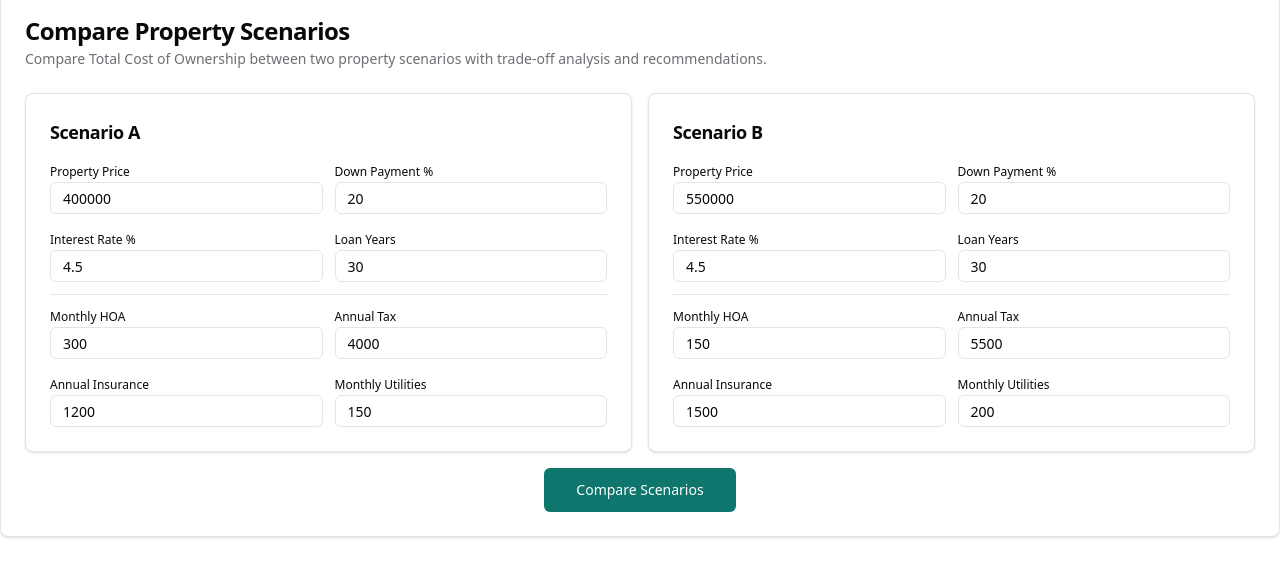
Test: TCOComparison › sends both scenarios to the API and renders the answer
Click the button "Compare Scenarios": click(640, 490) [544,468,736,512]
(page scrolled)
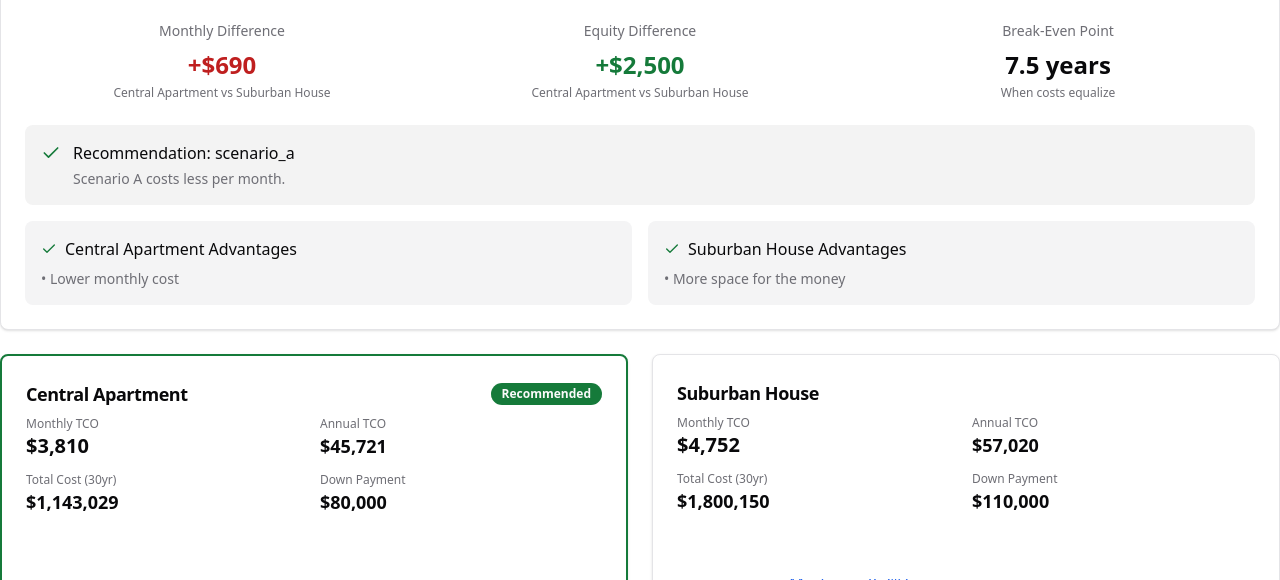
Expected: the text "+$690" is shown, [188,48,256,81]
Expected: the text "+$2,500" is shown, [595,48,685,81]
Expected: the text "7.5 years" is shown, [1005,48,1111,81]
